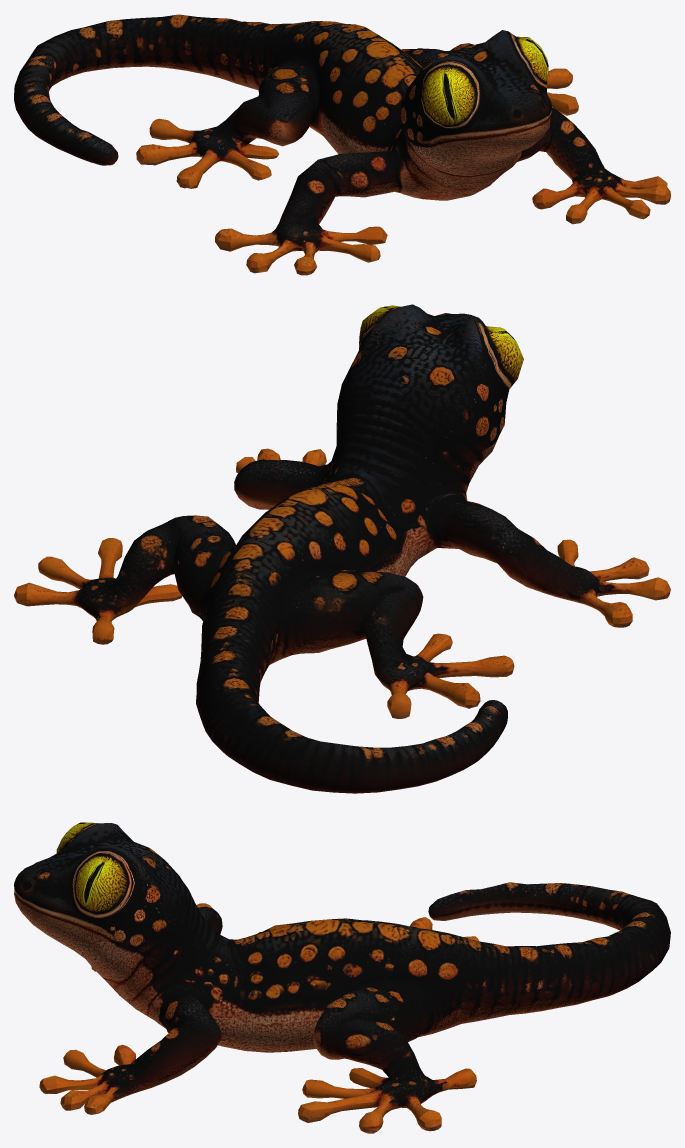
Rendered from gekco_.glb.
3 views of the same model, one above another, from view 1: azimuth 30°, elevation 25°; view 2: azimuth 150°, elevation 25°; view 3: azimuth 270°, elevation 25° (orthographic). The views are drawn at different scales.
Visible parts, largest first — view 1: Gekco; view 2: Gekco; view 3: Gekco.
Part boxes in pixels (x1,y1,x2,y2): Gekco: (14,14,670,275); Gekco: (14,304,670,793); Gekco: (14,822,670,1133).
Size of the model in its own units: 2.14 by 0.8954 by 2.55.
1 material, 1 textured.
